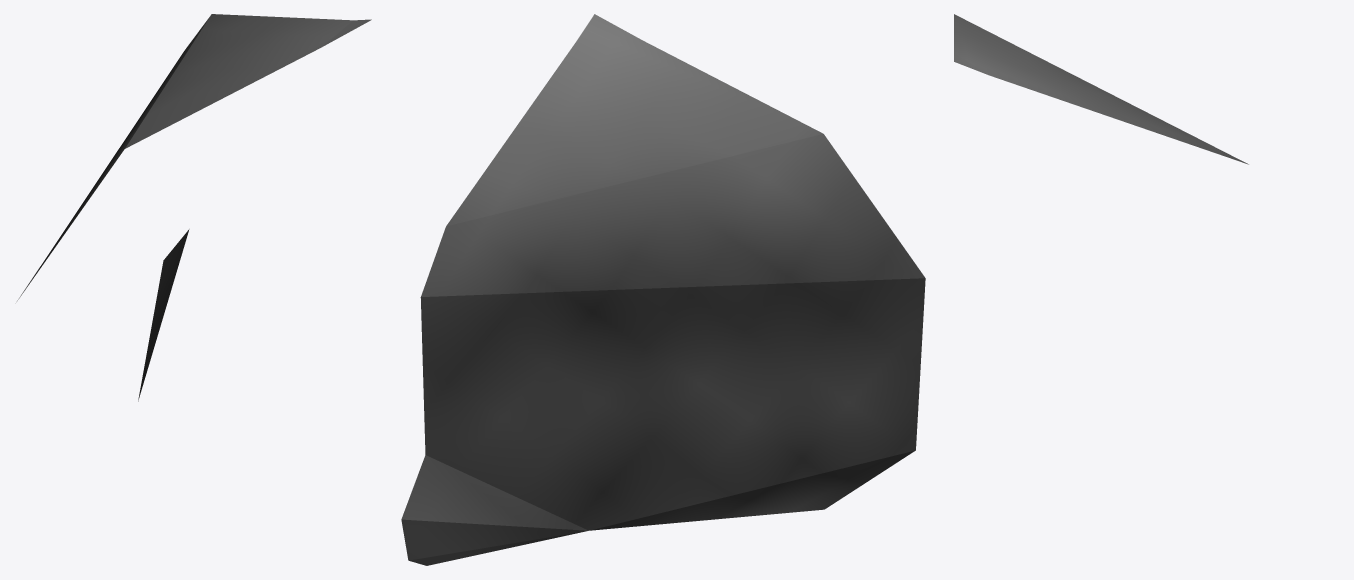
3 views of the same model, side by side, from view 1: azimuth 30°, elevation 25°; view 2: azimuth 150°, elevation 25°; view 3: azimuth 270°, elevation 25° (orthographic). The views are drawn at different scales.
Bounding box in the file's own units: 0.034 × 0.0495 × 0.0343.
1 material, 1 textured.
